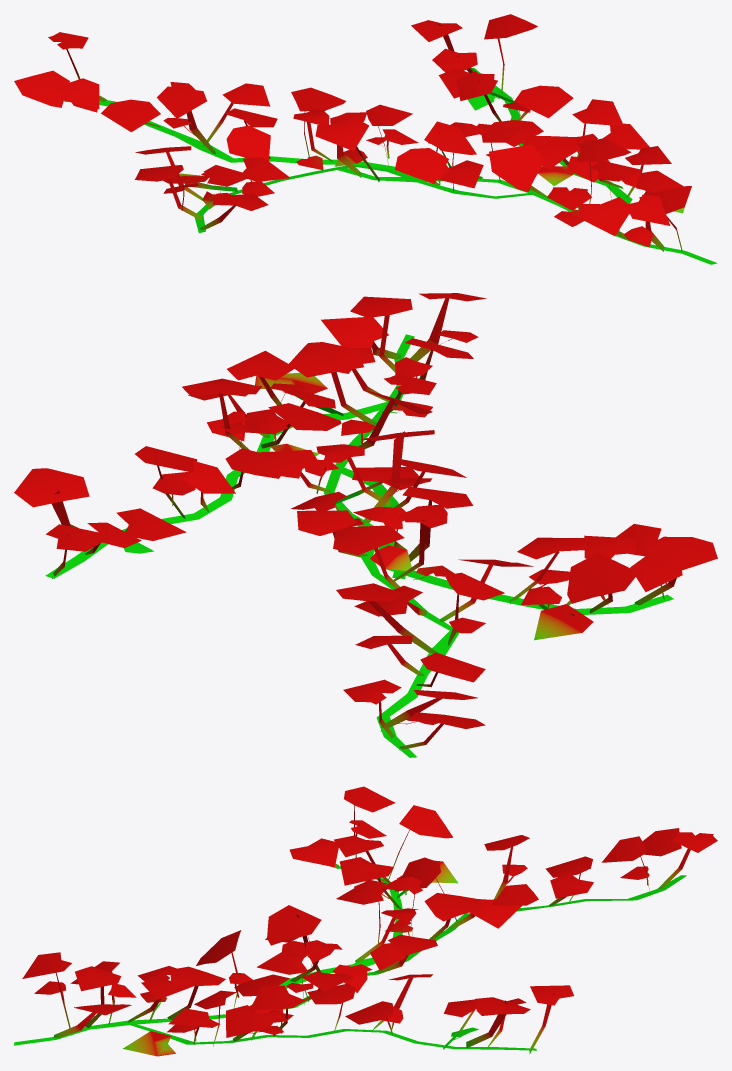
The model's file is Var2_LOD3.fbx.
The picture shows the model from 3 angles, top to bottom: view 1: azimuth 30°, elevation 25°; view 2: azimuth 150°, elevation 25°; view 3: azimuth 270°, elevation 25°; orthographic projection. The views are drawn at different scales.
Visible parts, largest first — view 1: _wqhg_Var2_LOD3; view 2: _wqhg_Var2_LOD3; view 3: _wqhg_Var2_LOD3.
Part boxes in pixels (<box>): _wqhg_Var2_LOD3: <box>14,14,717,264</box>; _wqhg_Var2_LOD3: <box>14,293,717,757</box>; _wqhg_Var2_LOD3: <box>14,786,717,1056</box>.
Bounding box in the file's own units: 85.42 × 12.14 × 112.
